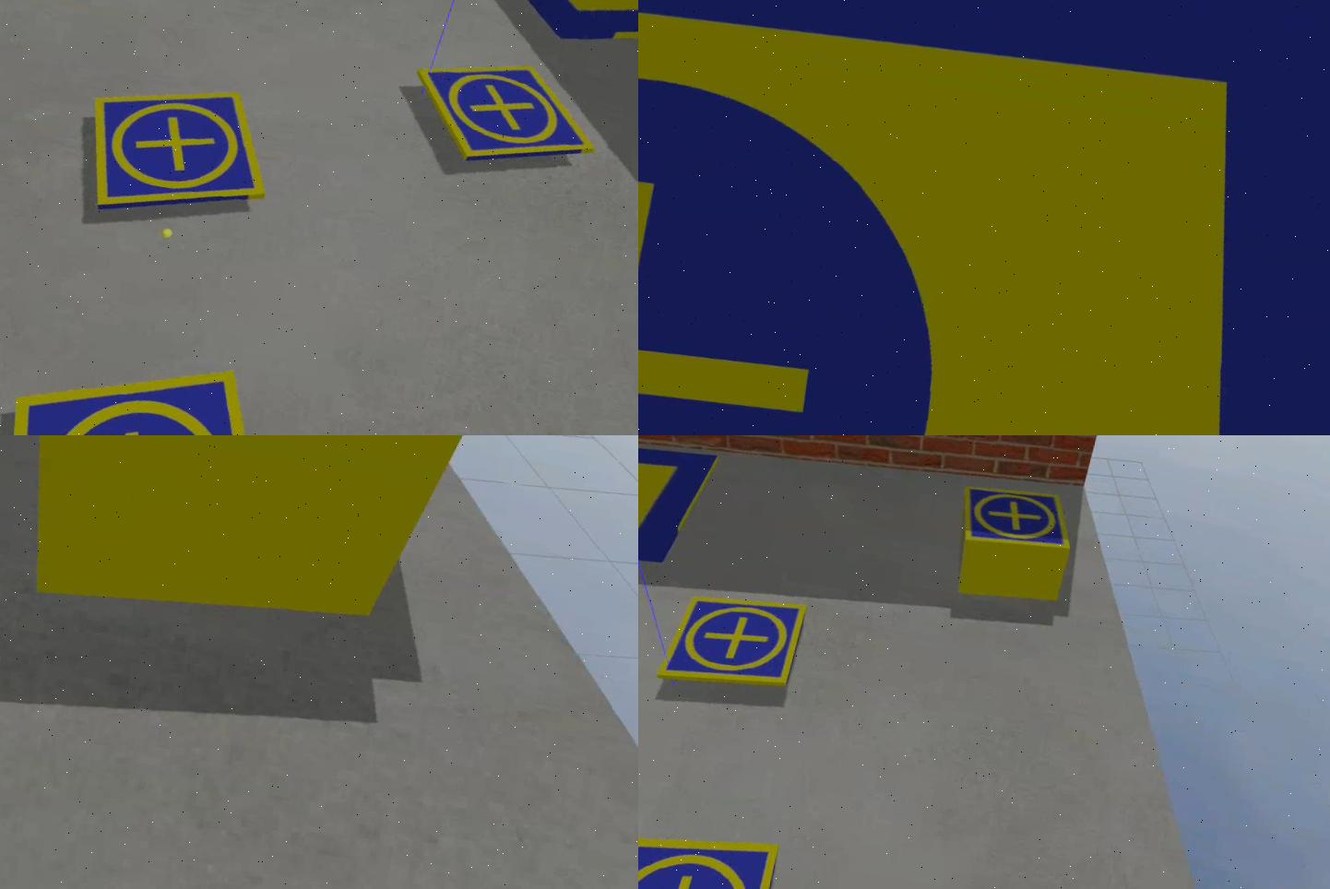large_base: (639, 1, 1330, 436), (423, 1, 639, 72), (639, 436, 718, 575)
small_base: (77, 71, 282, 238), (1, 338, 312, 436), (404, 49, 610, 188), (657, 590, 807, 699), (639, 815, 785, 889), (957, 480, 1081, 558)
